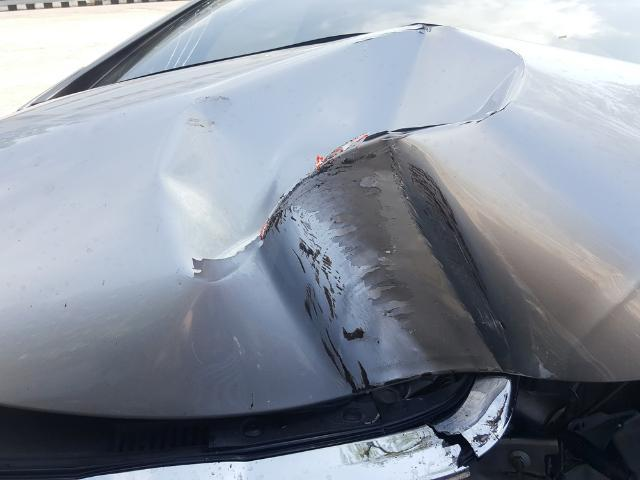crack: (426, 424, 479, 469)
dent: (156, 24, 582, 397)
